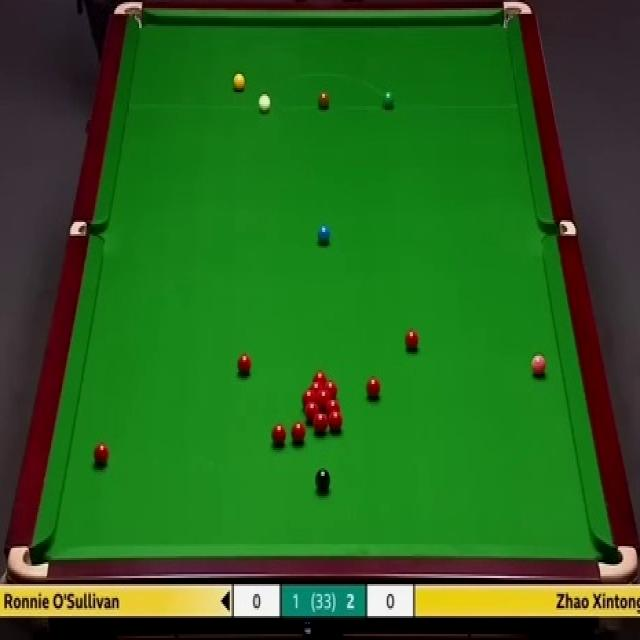pocket: (594, 540, 640, 578), (6, 542, 49, 580), (111, 0, 146, 31), (501, 0, 534, 28), (538, 220, 574, 234), (67, 222, 101, 236)
